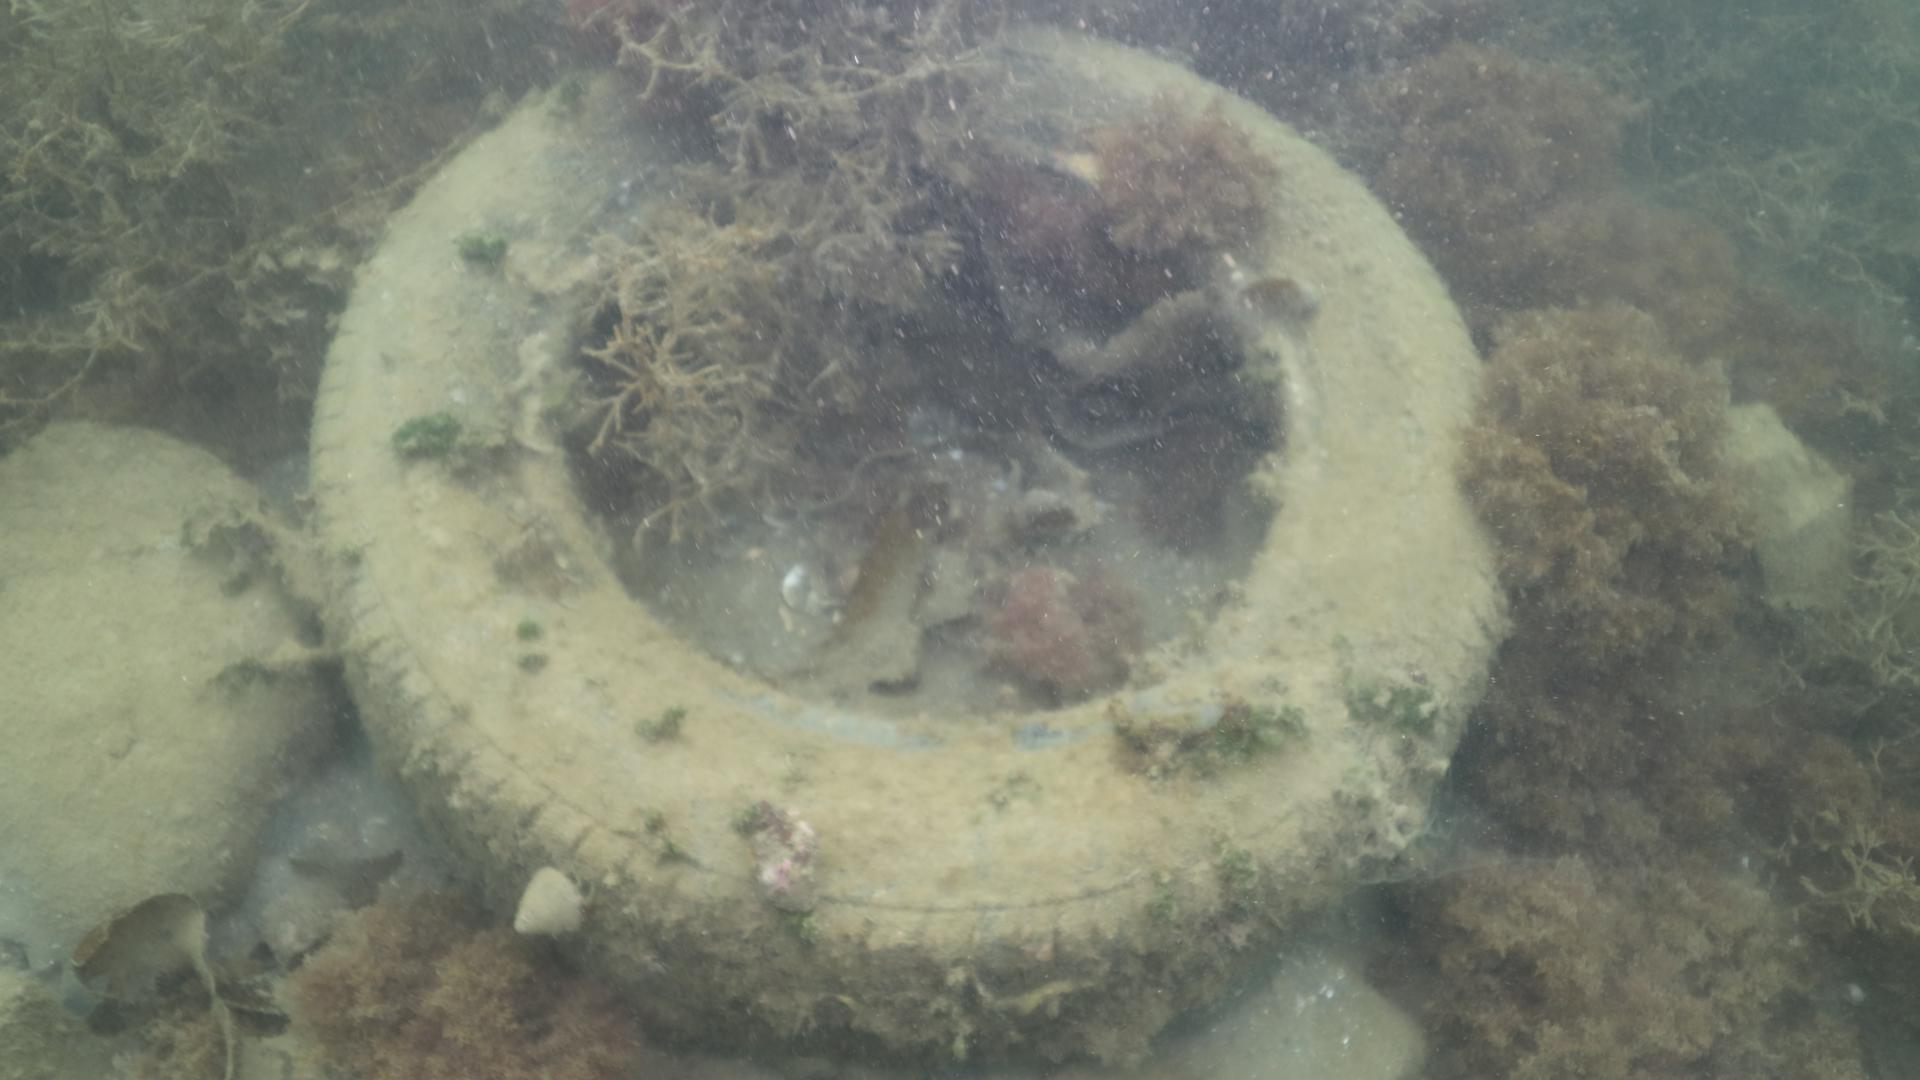tire: (306, 16, 1513, 1065)
